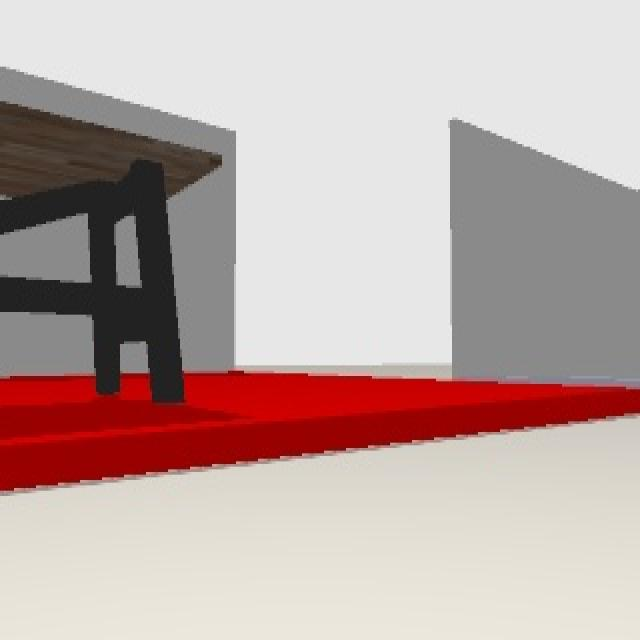dining: (1, 100, 222, 404)
